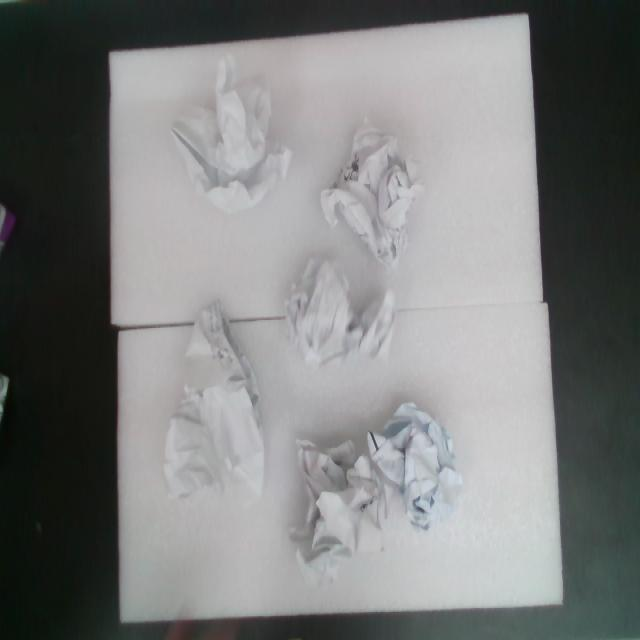paper: (125, 38, 324, 242), (286, 99, 480, 293), (148, 290, 294, 511), (351, 372, 495, 548), (276, 213, 415, 389), (275, 425, 401, 587)
